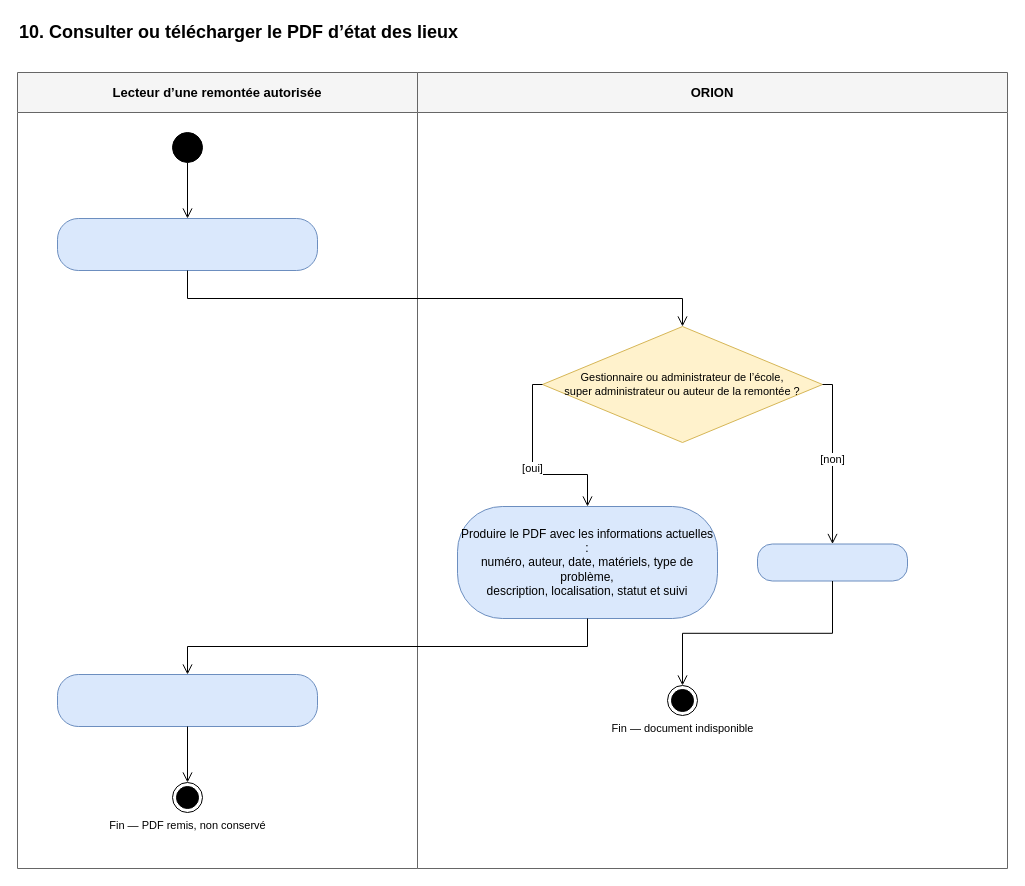
The diagram is 1025 pixels wide and 886 high, and some of its shapes have lost their labels. Each missing label, with the centre of its shape:
Consulter, télécharger ou imprimer le PDF: the point at 187,700
Demander le PDF d’état des lieux d’une remontée: the point at 187,244
Refuser la demande: the point at 832,562
